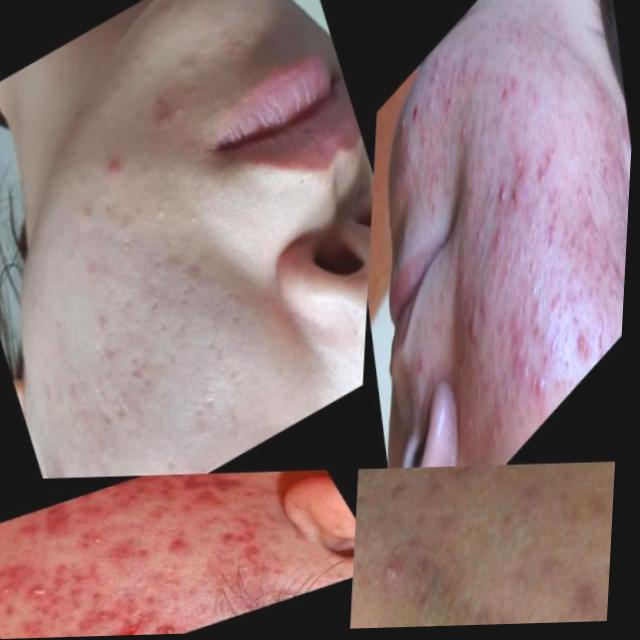7: (89, 510, 116, 529)
8: (91, 136, 142, 201), (508, 302, 542, 394), (568, 312, 601, 387), (140, 90, 180, 143), (543, 197, 569, 262), (493, 171, 516, 229), (423, 164, 445, 213), (359, 526, 375, 591), (533, 363, 553, 414), (195, 475, 237, 486)
9: (375, 547, 419, 602), (410, 336, 440, 402), (450, 110, 477, 167), (452, 225, 478, 284), (488, 214, 511, 272), (424, 51, 448, 101), (393, 103, 413, 148), (82, 528, 117, 553), (415, 120, 434, 160)
blackheads: (503, 143, 535, 223), (448, 39, 479, 104), (535, 144, 561, 206), (234, 541, 279, 572), (29, 581, 62, 605), (114, 617, 155, 636), (154, 619, 192, 636)
dark spot: (200, 512, 233, 539)
pustules: (464, 294, 489, 365)
whiteheads: (252, 484, 281, 506), (0, 578, 22, 600)
